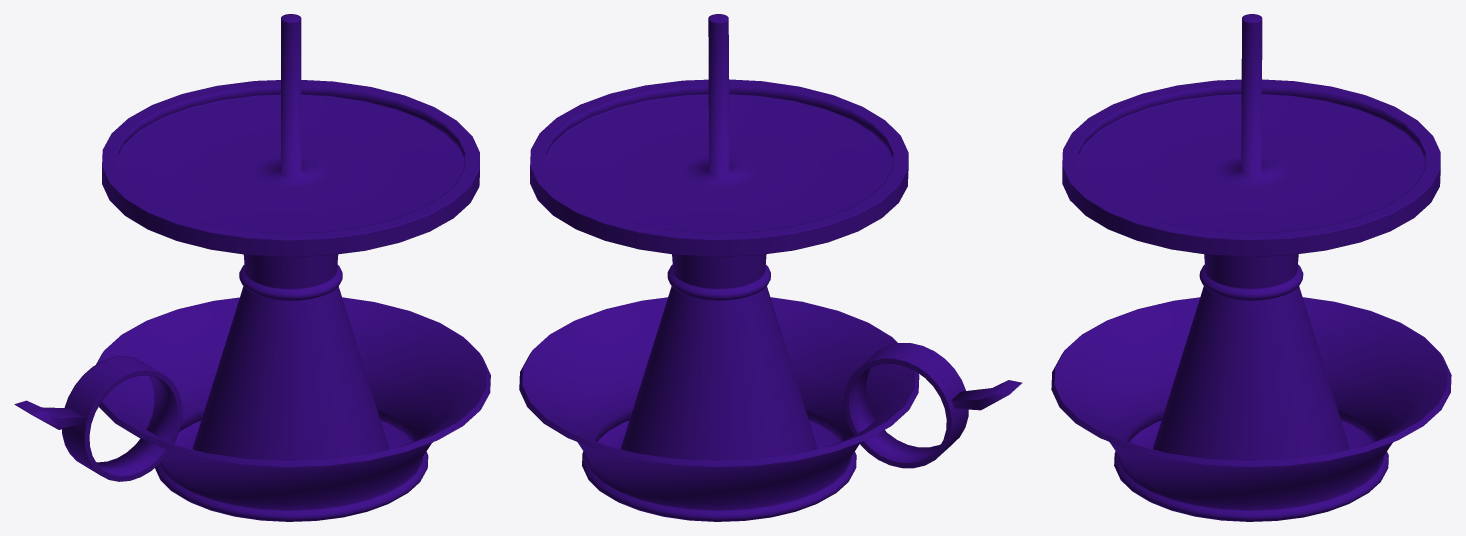
The model's file is candleholder1.fbx.
The picture shows the model from 3 angles, left to right: view 1: azimuth 30°, elevation 25°; view 2: azimuth 150°, elevation 25°; view 3: azimuth 270°, elevation 25°; orthographic projection.
Parts seen in each view (by area): view 1: candleholder1; view 2: candleholder1; view 3: candleholder1.
Part boxes in pixels (x1,y1,x2,y2): candleholder1: [14, 14, 490, 521]; candleholder1: [519, 14, 1022, 521]; candleholder1: [1051, 14, 1451, 521].
Bounding box in the file's own units: 11.47 × 10.74 × 8.69.
